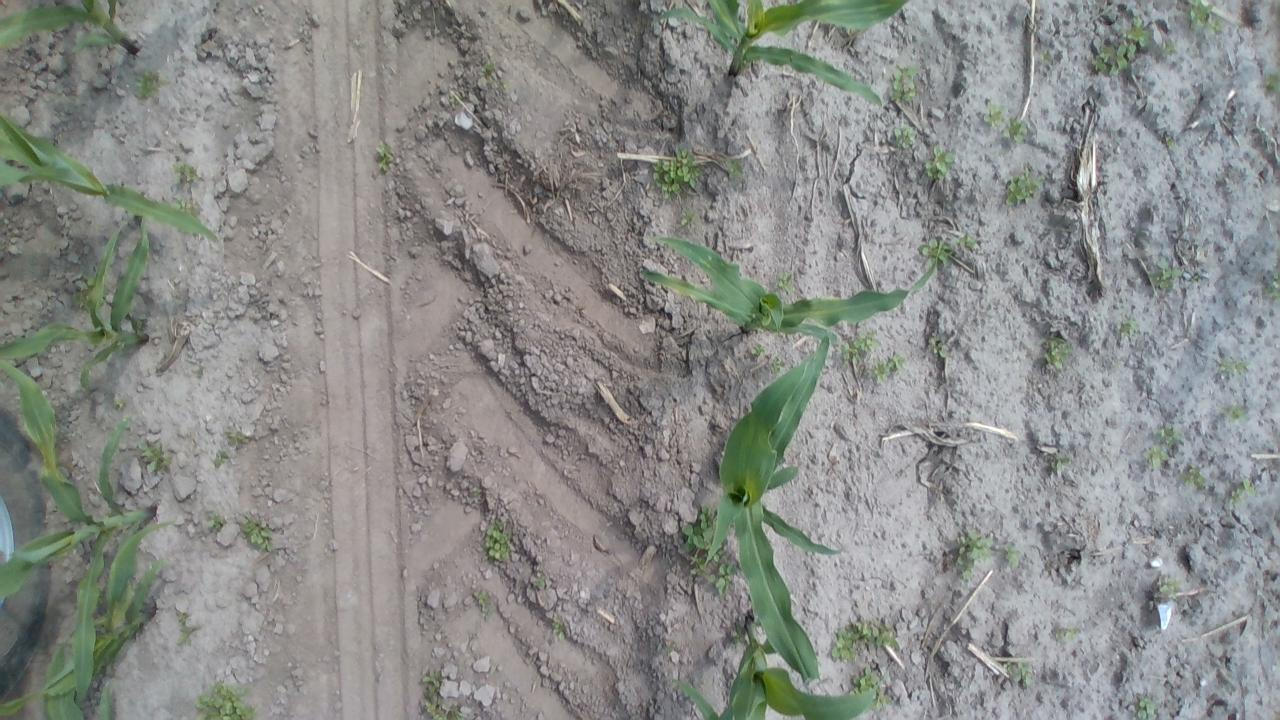Maize: (688, 318, 856, 696), (0, 359, 166, 715), (641, 227, 934, 346), (0, 520, 169, 720), (0, 108, 224, 244), (0, 214, 156, 391), (661, 0, 908, 107), (684, 610, 886, 720), (0, 0, 138, 56)
Weeds: (1092, 21, 1151, 77), (828, 616, 899, 662), (650, 144, 705, 202), (193, 680, 260, 718), (419, 667, 462, 720), (680, 505, 720, 554), (952, 529, 994, 575), (918, 234, 978, 266), (1000, 166, 1044, 208), (236, 513, 278, 554), (481, 518, 516, 565), (418, 690, 471, 720), (890, 62, 926, 106), (699, 558, 737, 598), (850, 668, 889, 704), (138, 436, 174, 474), (922, 144, 958, 182), (1144, 255, 1181, 291), (842, 328, 879, 364), (1184, 1, 1222, 36), (1210, 350, 1252, 381), (1042, 333, 1075, 370), (132, 66, 167, 100), (870, 352, 906, 383), (1001, 656, 1034, 688), (168, 160, 205, 187), (1228, 474, 1256, 509), (1140, 444, 1174, 472), (1112, 313, 1142, 342), (374, 140, 398, 175), (720, 155, 746, 186), (174, 614, 197, 646), (1156, 420, 1182, 448), (1218, 399, 1248, 423), (1134, 691, 1160, 718), (980, 100, 1006, 127), (1154, 574, 1182, 599), (892, 124, 916, 153), (1005, 117, 1029, 145), (1182, 462, 1206, 490), (999, 542, 1022, 569), (472, 588, 494, 616), (1054, 622, 1080, 645), (678, 209, 702, 232), (225, 424, 248, 448), (174, 195, 198, 218), (207, 511, 230, 533), (926, 336, 948, 359), (480, 58, 498, 86), (772, 272, 794, 294), (548, 619, 570, 641), (1046, 450, 1070, 470), (769, 356, 789, 379), (210, 448, 232, 468), (1262, 70, 1278, 96), (1262, 273, 1276, 302), (530, 571, 550, 591), (468, 482, 485, 502), (1162, 38, 1180, 56), (112, 395, 128, 412), (748, 342, 765, 358), (448, 91, 464, 106), (1164, 134, 1178, 151)
